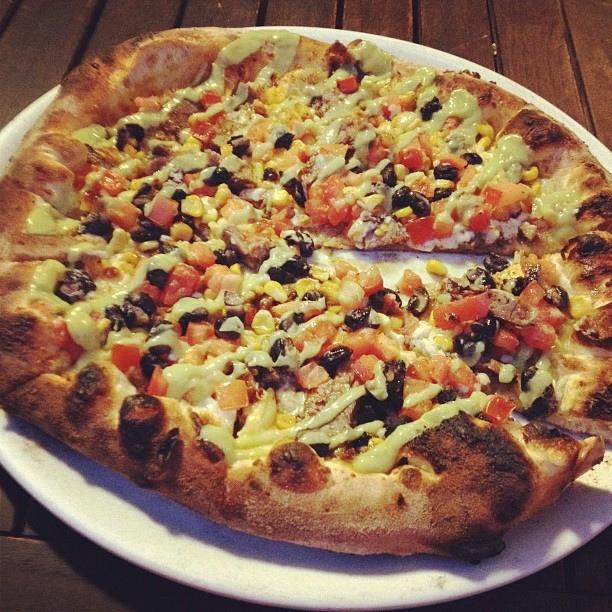tomato: (518, 280, 568, 331), (433, 292, 489, 330), (159, 262, 200, 306), (440, 360, 478, 398), (292, 321, 337, 352), (406, 216, 453, 245), (481, 394, 517, 426), (396, 395, 438, 422), (146, 195, 178, 230), (106, 202, 142, 233), (522, 320, 556, 352), (342, 333, 380, 360), (177, 320, 214, 346), (92, 171, 127, 197), (352, 354, 380, 385), (112, 344, 140, 373), (490, 326, 520, 353), (133, 280, 163, 307), (359, 265, 384, 297), (364, 132, 390, 162), (405, 359, 434, 384), (189, 244, 217, 268), (190, 120, 215, 146), (148, 364, 168, 396), (399, 150, 423, 172), (208, 270, 230, 293), (382, 294, 405, 316), (469, 210, 490, 234), (200, 91, 222, 111), (336, 74, 358, 94), (187, 183, 218, 197), (484, 186, 502, 208), (328, 206, 346, 227)
